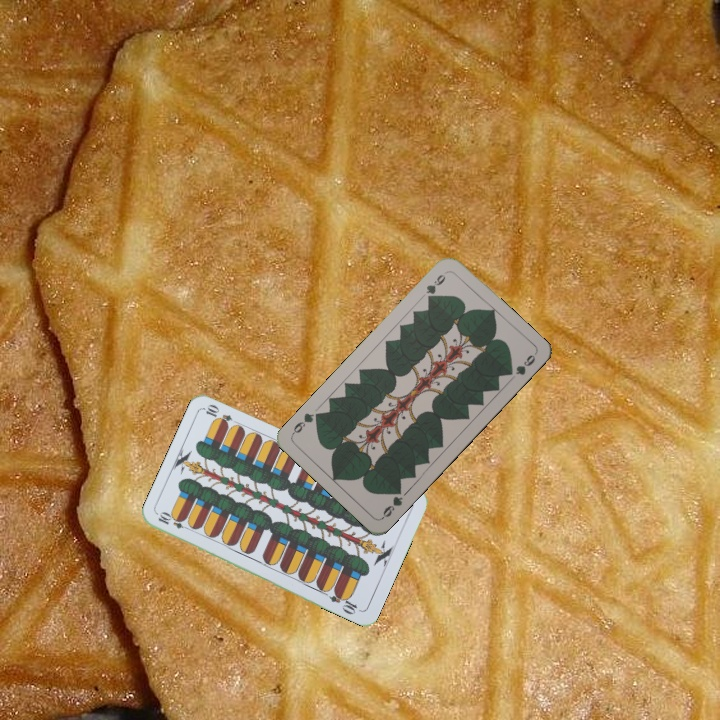E10: (154, 509, 194, 533)
G9: (378, 484, 406, 521), (421, 268, 449, 304)
